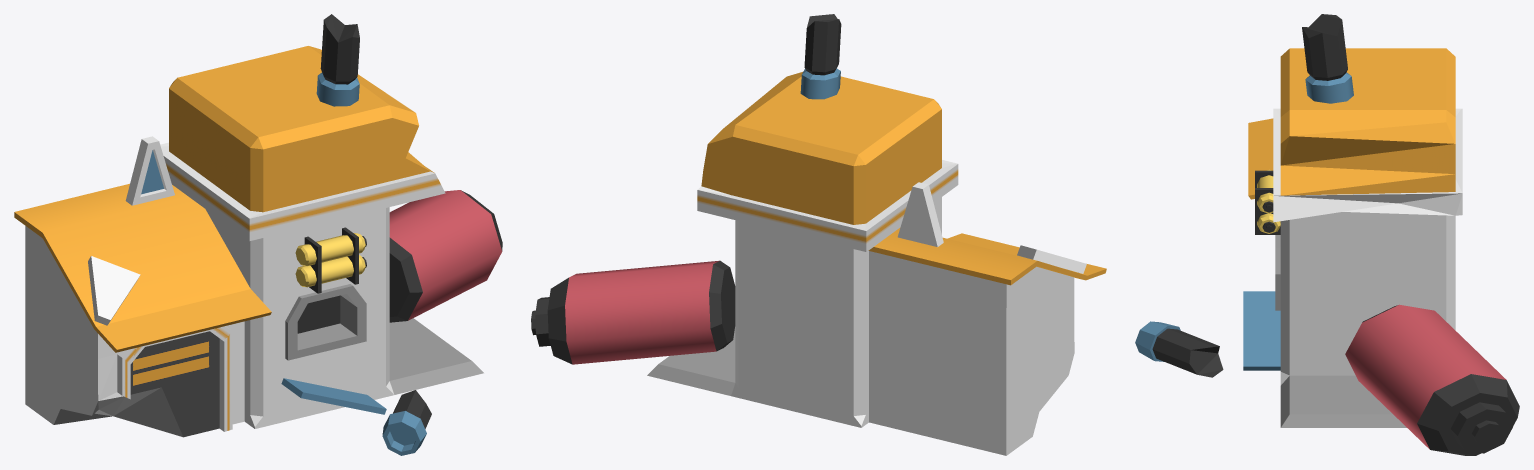
File: M_smithyB.fbx
3 renders of one model, left to right at view 1: azimuth 30°, elevation 25°; view 2: azimuth 150°, elevation 25°; view 3: azimuth 270°, elevation 25°, orthographic. The views are drawn at different scales.
Parts seen in each view (by area): view 1: Box009; view 2: Box009; view 3: Box009.
Boxes of the visible parts, x1,y1,x2,y2 form: Box009: (14,14,502,455); Box009: (531,14,1106,455); Box009: (1135,14,1519,455).
Size of the model in its own units: 19387 by 13746 by 13613.
